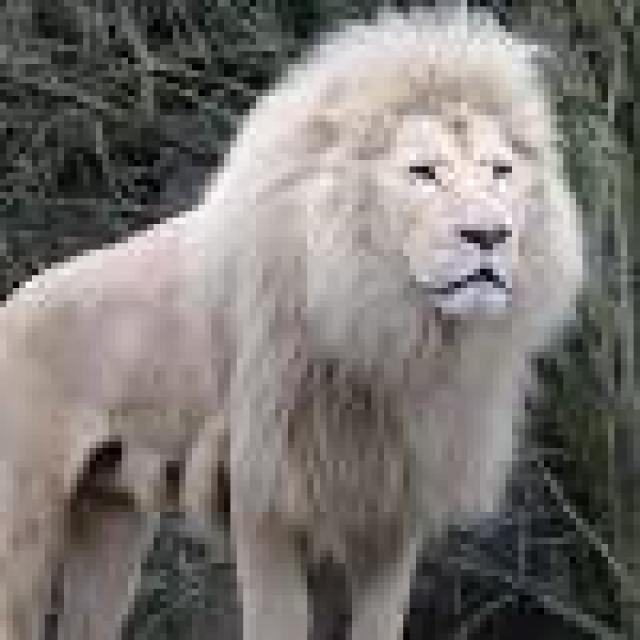Lion: (0, 3, 584, 634)
